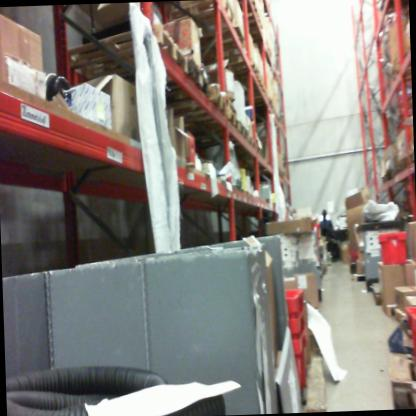pallet: (65, 22, 187, 92), (112, 60, 213, 114), (160, 0, 256, 56), (153, 79, 227, 129), (293, 346, 344, 410), (203, 54, 265, 92), (384, 345, 416, 408), (216, 95, 239, 133), (365, 278, 393, 309), (390, 301, 414, 329), (230, 114, 249, 138), (352, 268, 373, 287), (381, 303, 400, 318), (322, 260, 331, 275)
small_load_carrier: (284, 329, 314, 386), (376, 223, 409, 271), (282, 296, 309, 334), (282, 286, 312, 317), (406, 306, 416, 365)
